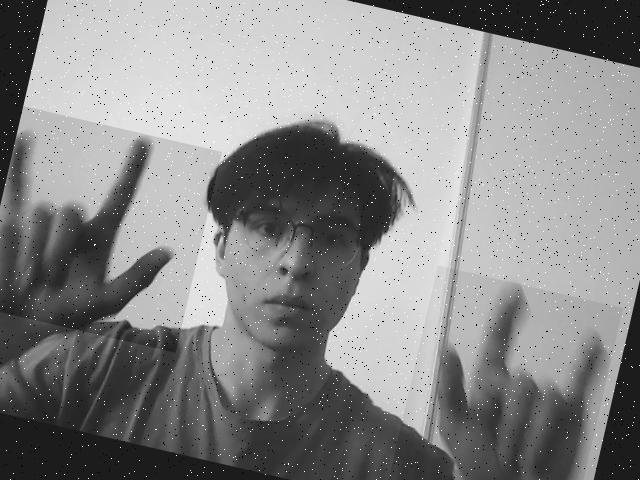I_Love_You: (0, 106, 221, 352), (385, 265, 622, 480)
